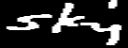sky: (0, 0, 128, 48)
